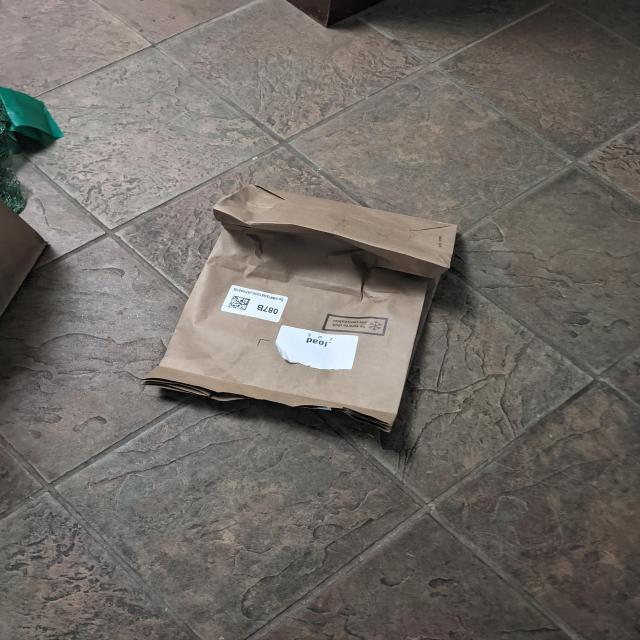litter: (144, 183, 457, 424)
